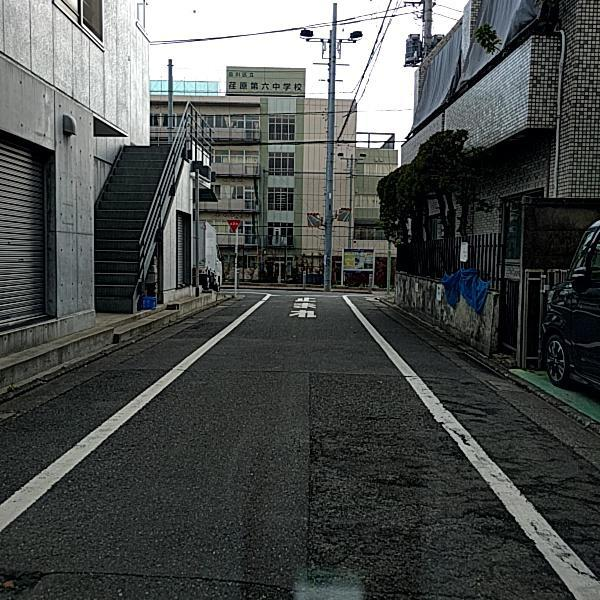D20: (346, 342, 591, 587)
